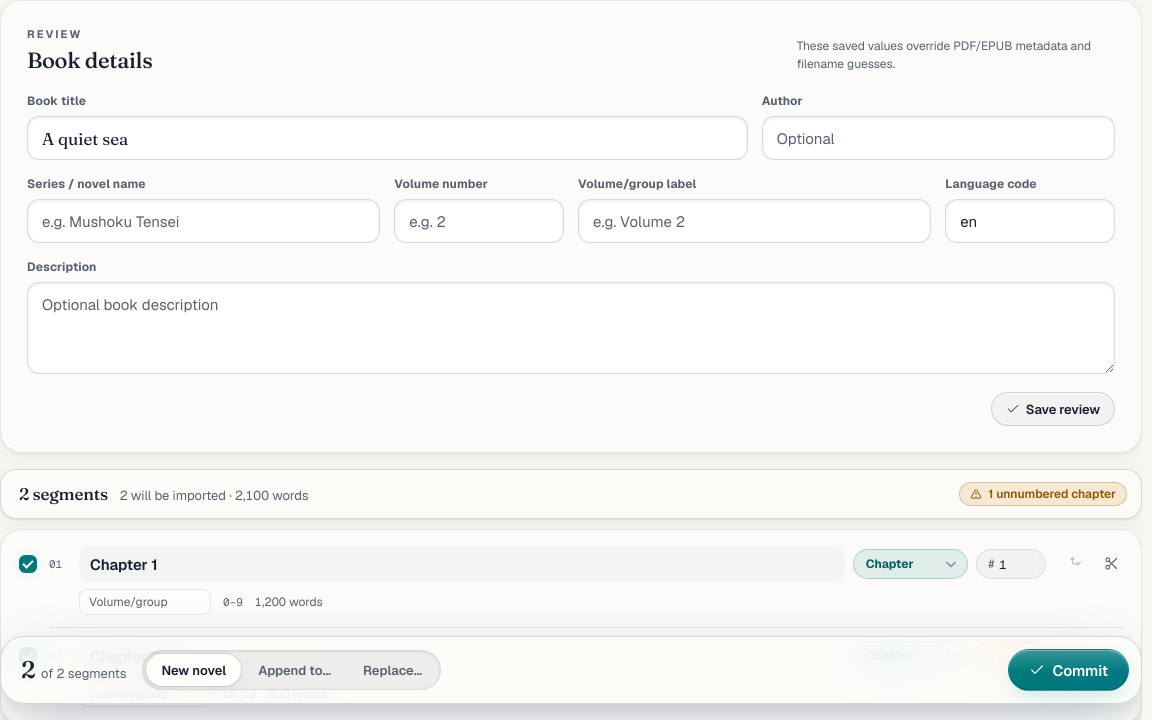
review editor › summarises the destination next to Commit and flags unnumbered chapters
expect the text "1 unnumbered chapter" is shown: met, box [959, 482, 1127, 506]
expect the text "2 will be imported · 2,100 words" is shown: met, box [120, 487, 309, 504]
Click the button "Append to…": (295, 670) [243, 654, 346, 686]
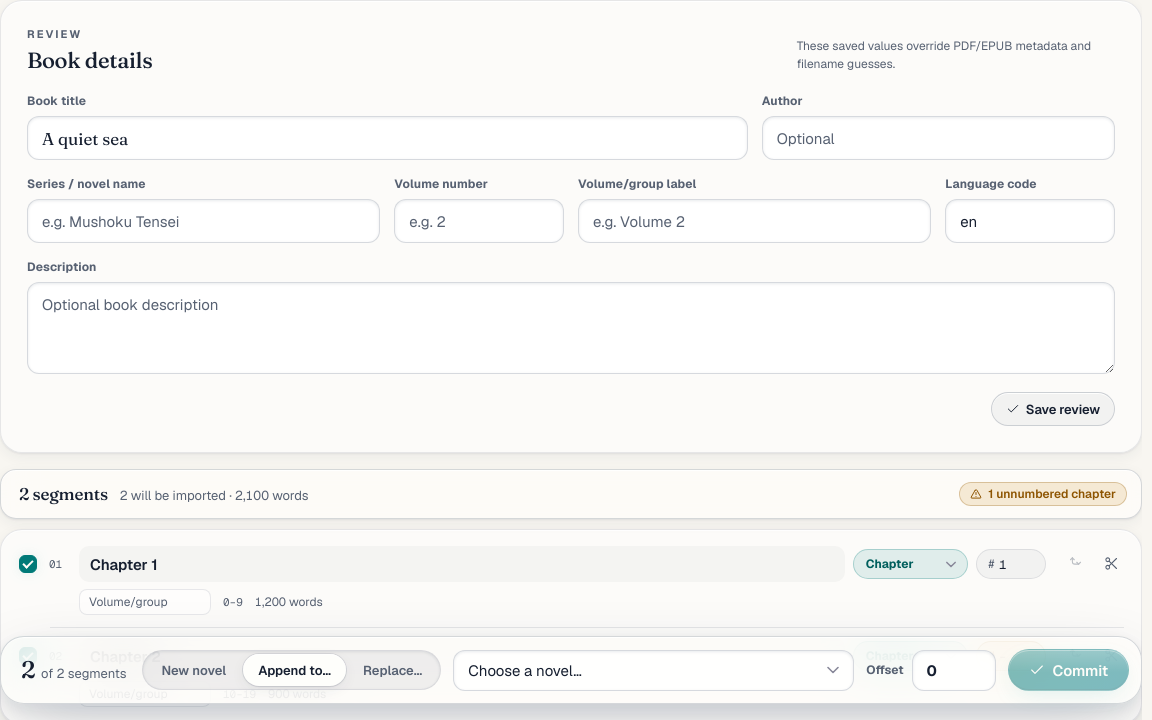
expect the button "Commit" is disabled: met, box [1008, 649, 1129, 691]
Select "The Glass Tide" in the dropdown named "Destination novel": (654, 670) [453, 650, 854, 690]
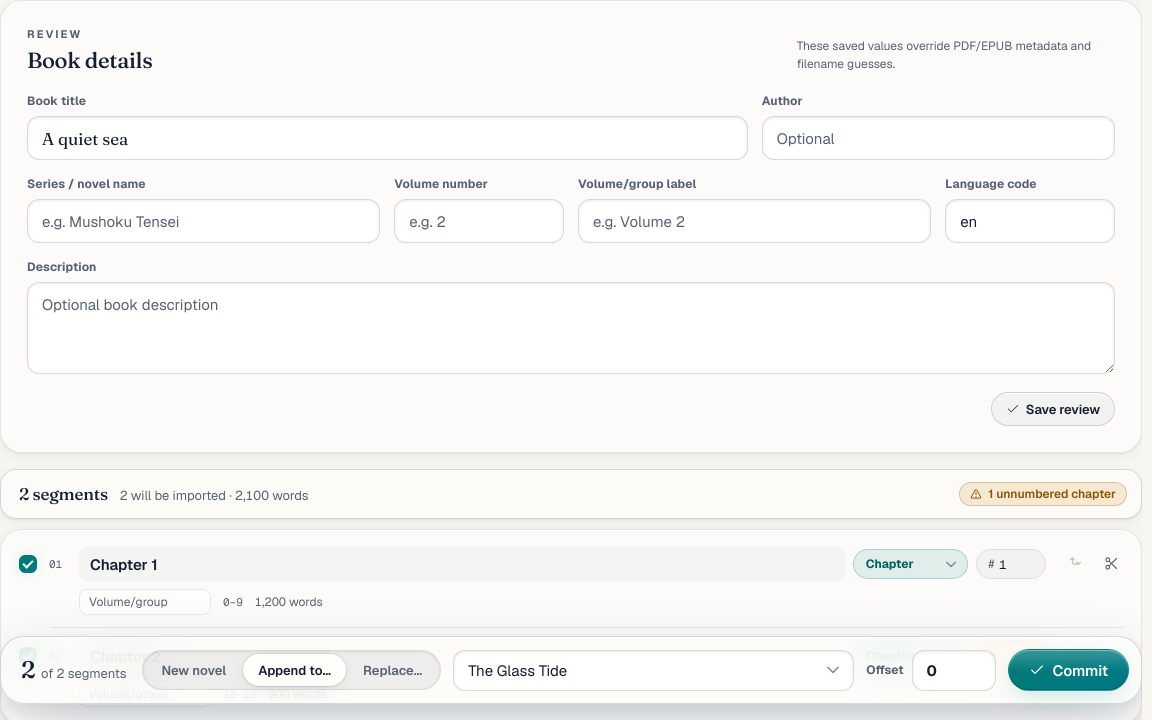
expect the button "Commit" is enabled: met, box [1008, 649, 1129, 691]
